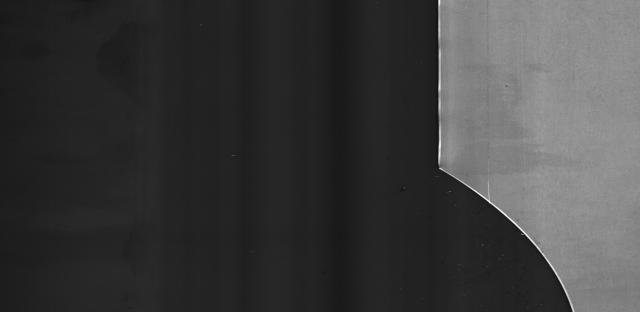crescent_gap: (423, 149, 583, 312)
